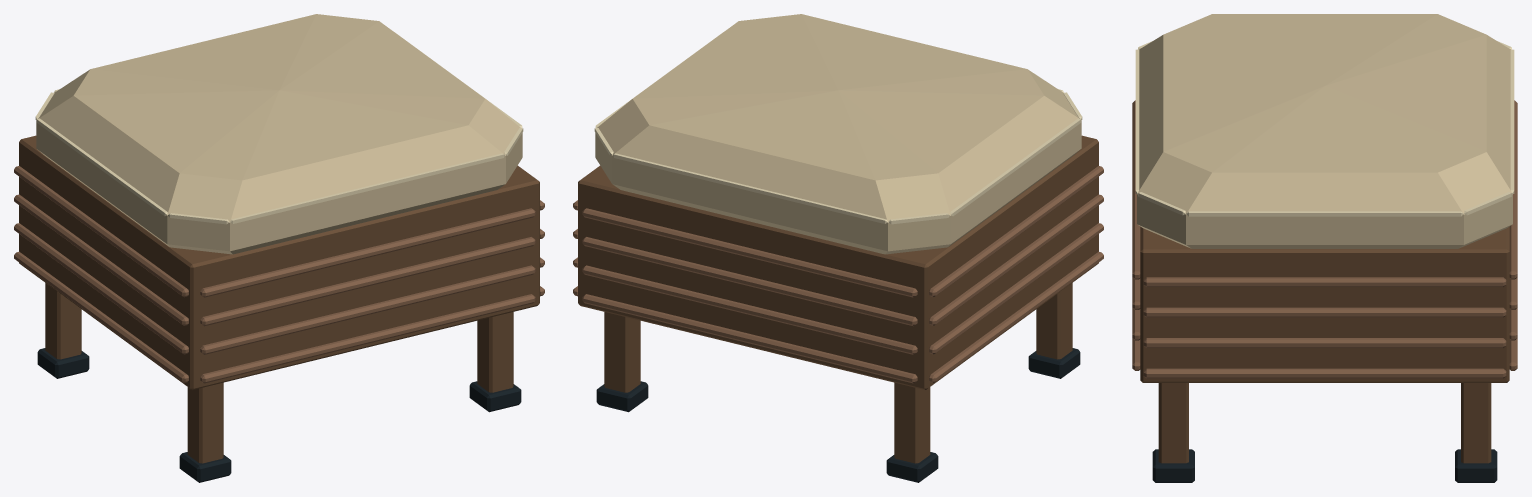
Rendered from b11_patio_cushioned_ottoman.glb.
The picture shows the model from 3 angles, left to right: view 1: azimuth 30°, elevation 25°; view 2: azimuth 150°, elevation 25°; view 3: azimuth 270°, elevation 25°; orthographic projection. The views are drawn at different scales.
Visible parts, largest first — view 1: b11_patio_cushioned_ottoman; view 2: b11_patio_cushioned_ottoman; view 3: b11_patio_cushioned_ottoman.
Boxes of the visible parts, <box> form: b11_patio_cushioned_ottoman: <box>14,14,544,482</box>; b11_patio_cushioned_ottoman: <box>573,14,1103,482</box>; b11_patio_cushioned_ottoman: <box>1132,14,1517,482</box>.
Size of the model in its own units: 0.664 by 0.516 by 0.574.
